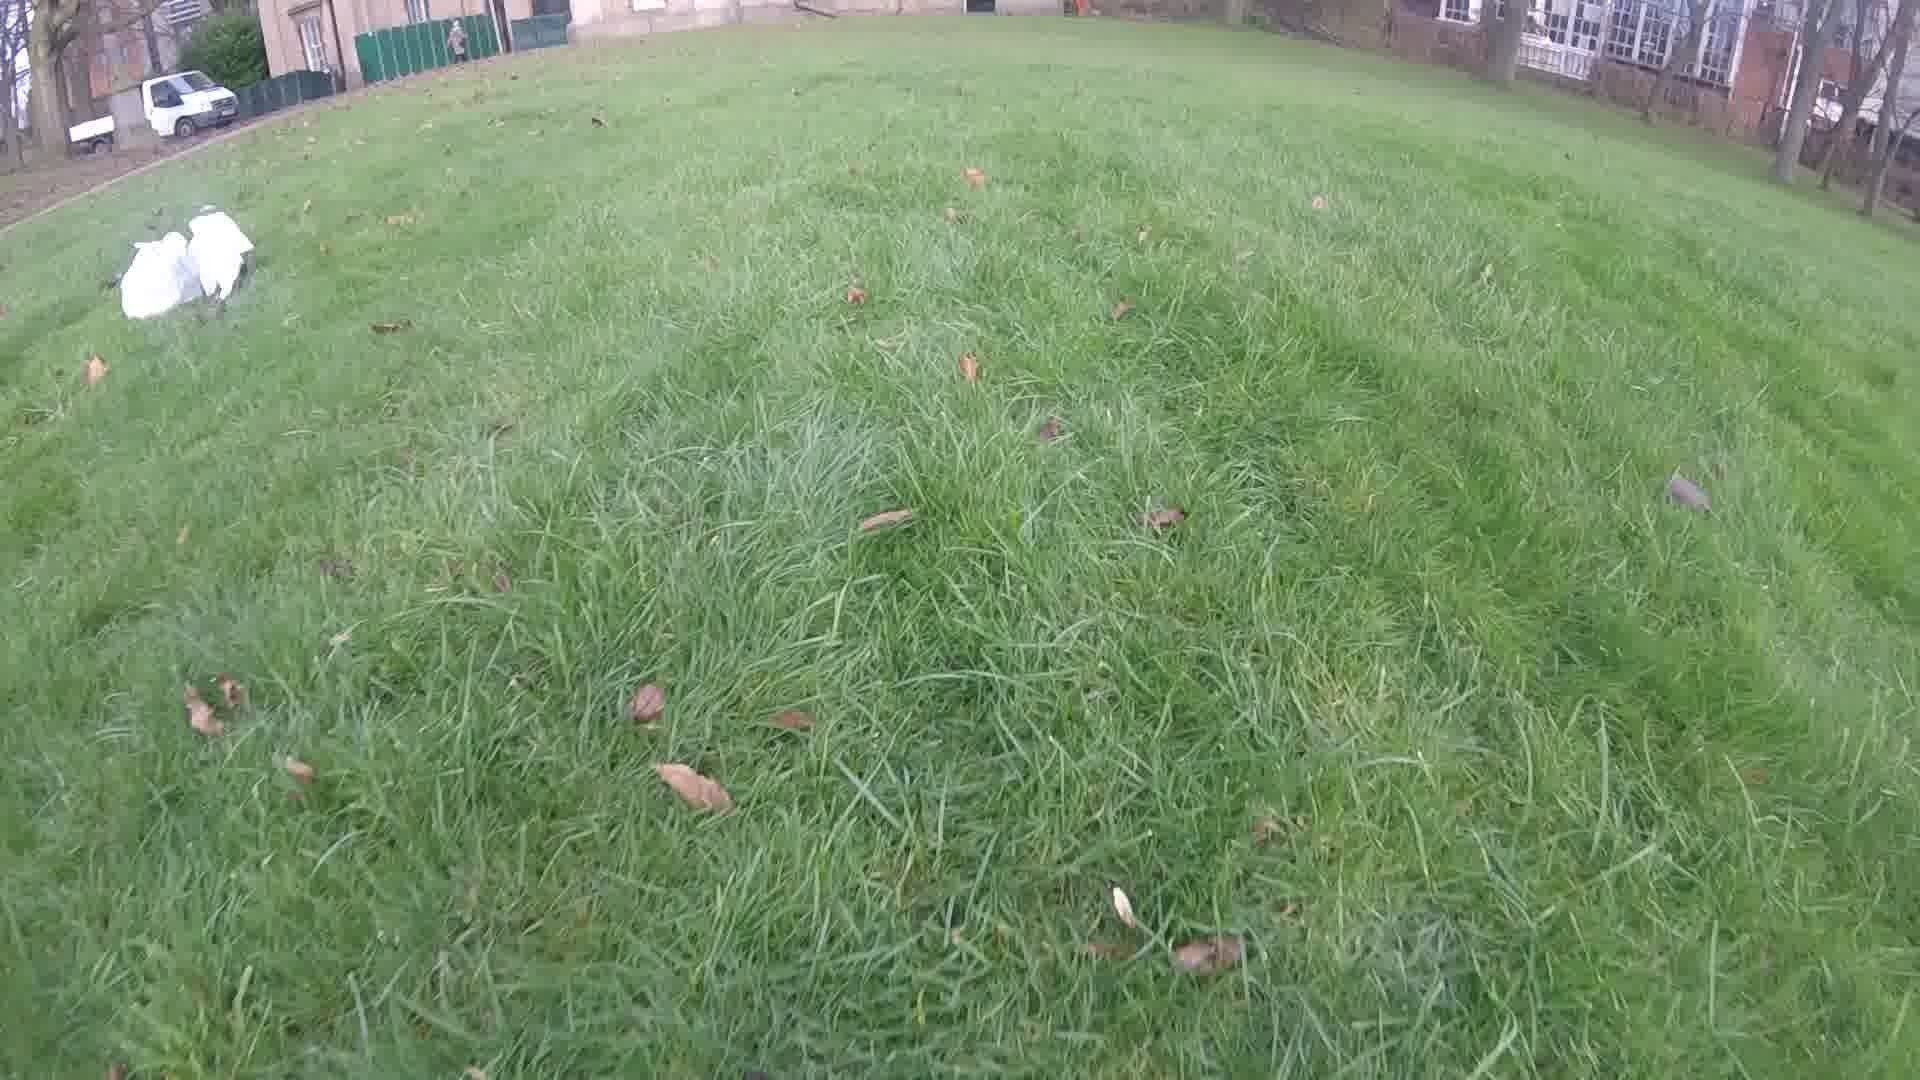litter: (116, 211, 255, 320)
